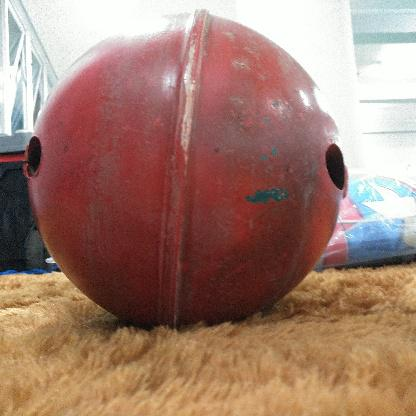red_buoy: (24, 12, 348, 332)
